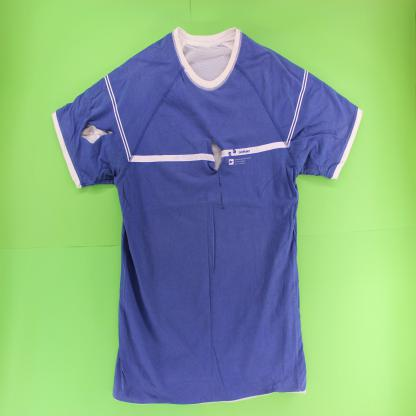hole: (209, 136, 225, 211), (79, 123, 117, 147)
